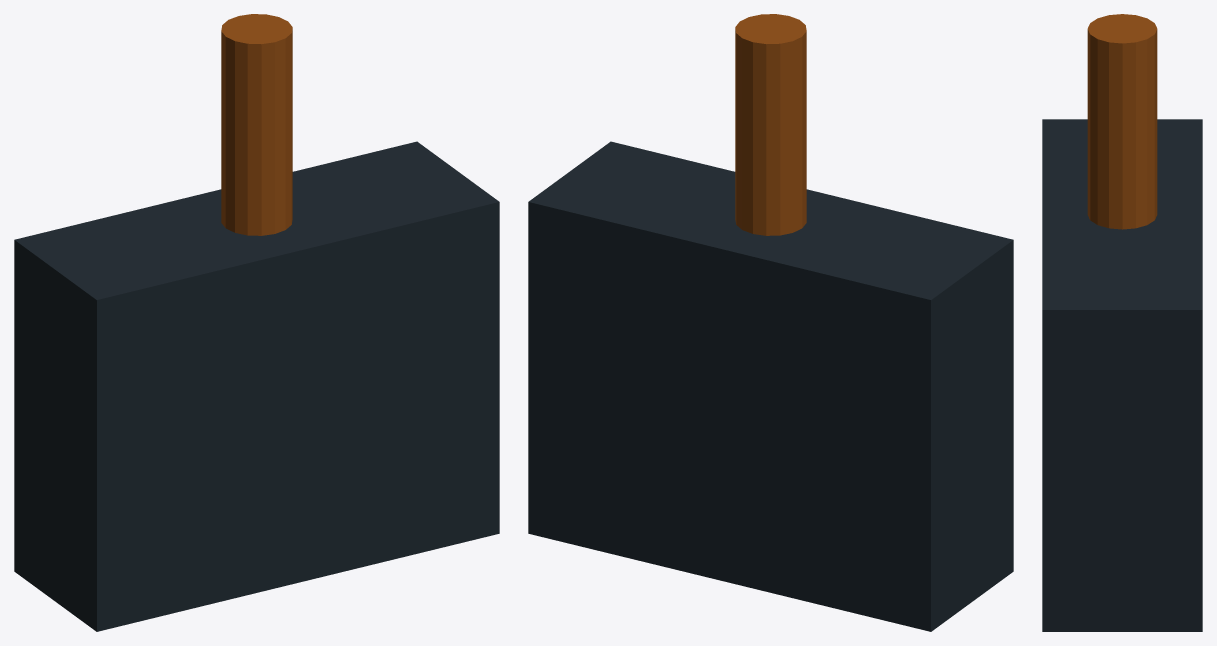
Rendered from inspection_lamp.obj.
The picture shows the model from 3 angles, left to right: view 1: azimuth 30°, elevation 25°; view 2: azimuth 150°, elevation 25°; view 3: azimuth 270°, elevation 25°; orthographic projection. The views are drawn at different scales.
Parts seen in each view (by area): view 1: painted_metal, brass; view 2: painted_metal, brass; view 3: painted_metal, brass.
Boxes of the visible parts, <box> form: painted_metal: <box>14,141,499,631</box>; brass: <box>221,14,292,235</box>; painted_metal: <box>528,141,1013,631</box>; brass: <box>735,14,806,235</box>; painted_metal: <box>1042,119,1202,631</box>; brass: <box>1087,14,1157,229</box>.
Size of the model in its own units: 1.55 by 1.92 by 0.55.
